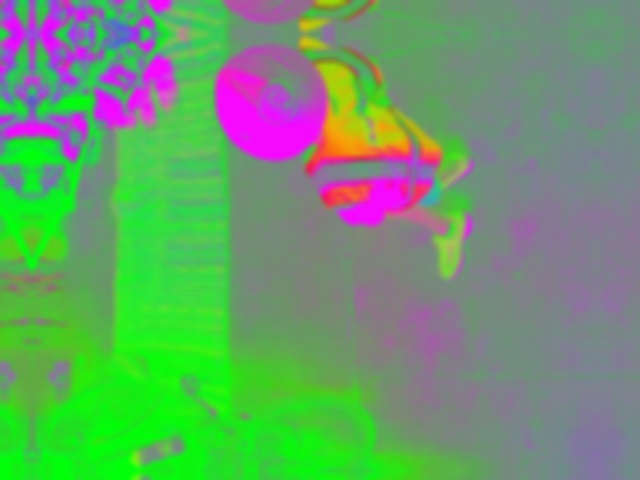two: (256, 81, 295, 123)
